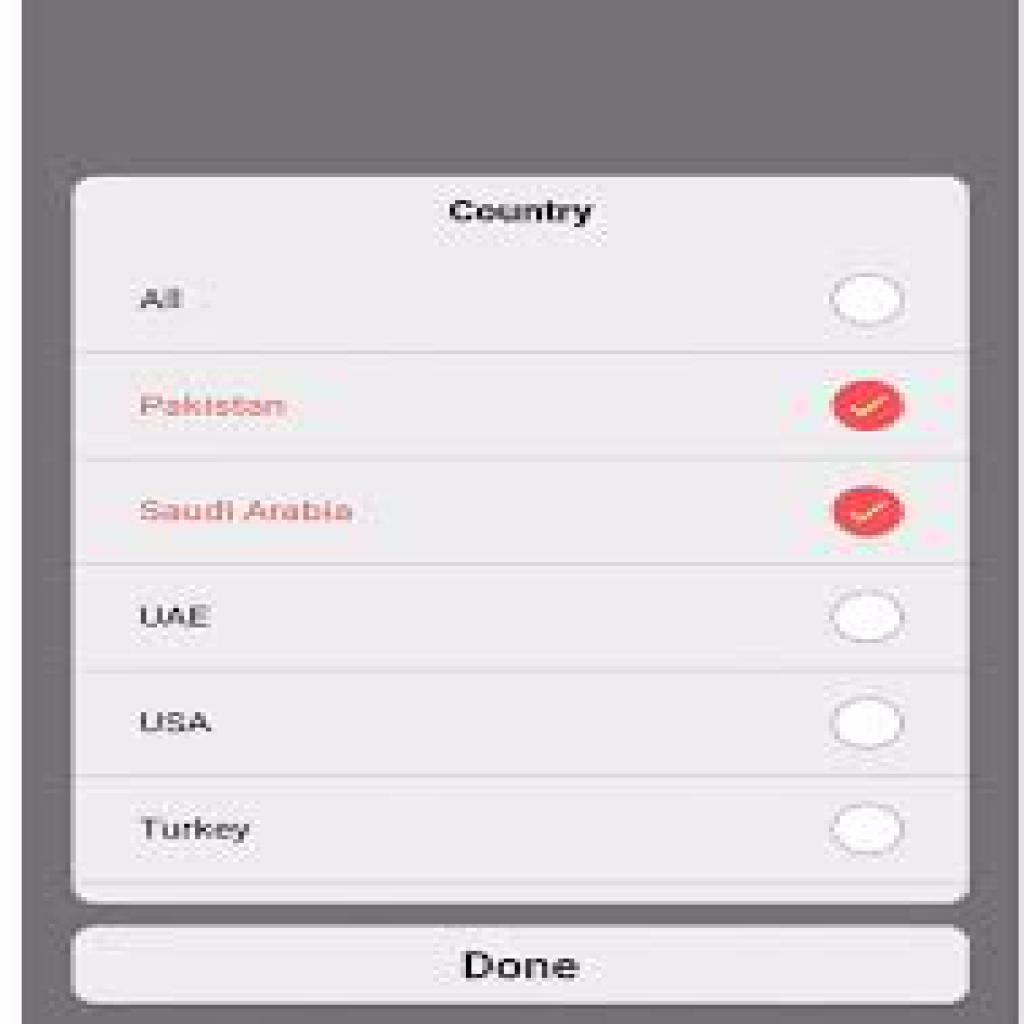button: (70, 926, 973, 1005)
radio: (827, 793, 915, 871), (828, 268, 923, 333), (826, 479, 917, 544), (824, 693, 912, 758), (821, 376, 913, 435), (825, 589, 910, 652)
